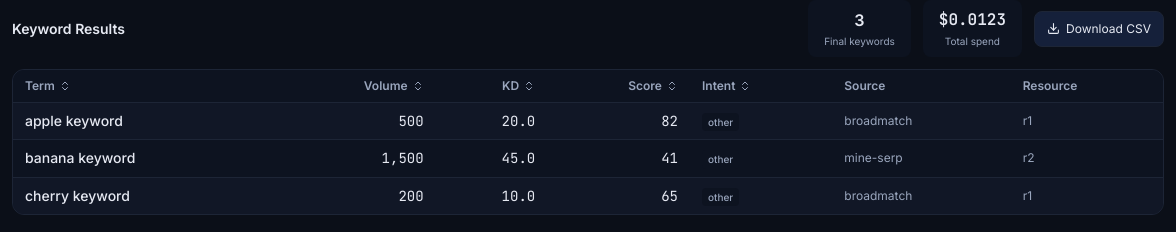
Results › reverses sort to descending when Volume header is clicked again
expect the text "apple keyword" is shown: met, box [13, 102, 273, 140]
Click the column heading "Volume" at (386,86), box [273, 70, 436, 102]
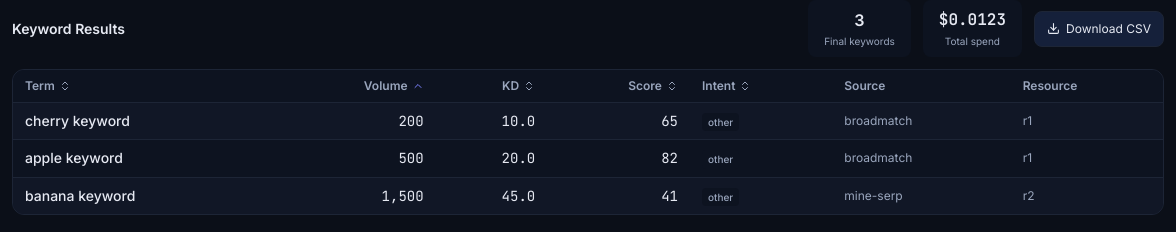
Click the column heading "Volume" at (386,86), box [273, 70, 436, 102]
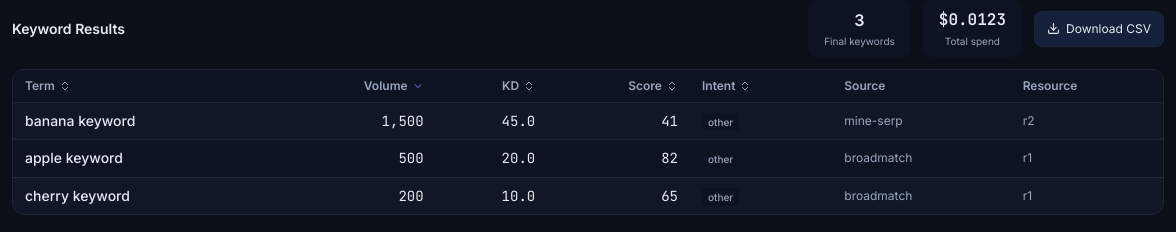
expect the row "apple keyword 500 20.0 82 other broadmatch r1" is shown: met, box [13, 140, 1163, 177]
expect the row "banana keyword 1,500 45.0 41 other mine-serp r2" is shown: met, box [13, 102, 1163, 140]
expect the row "cherry keyword 200 10.0 65 other broadmatch r1" is shown: met, box [13, 177, 1163, 214]
